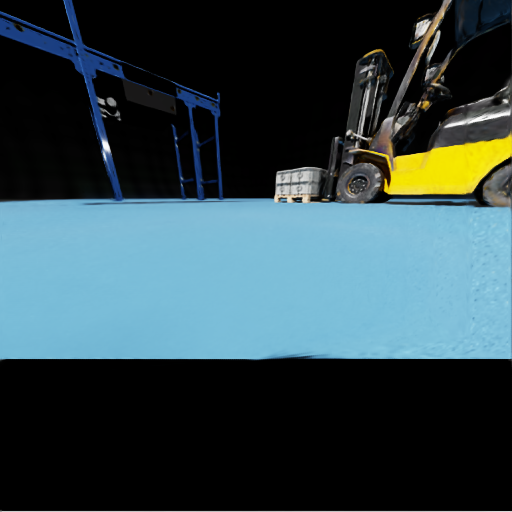transportation_area: (291, 181, 325, 194), (100, 62, 102, 64), (75, 53, 77, 55), (62, 48, 63, 49), (8, 28, 9, 29)
